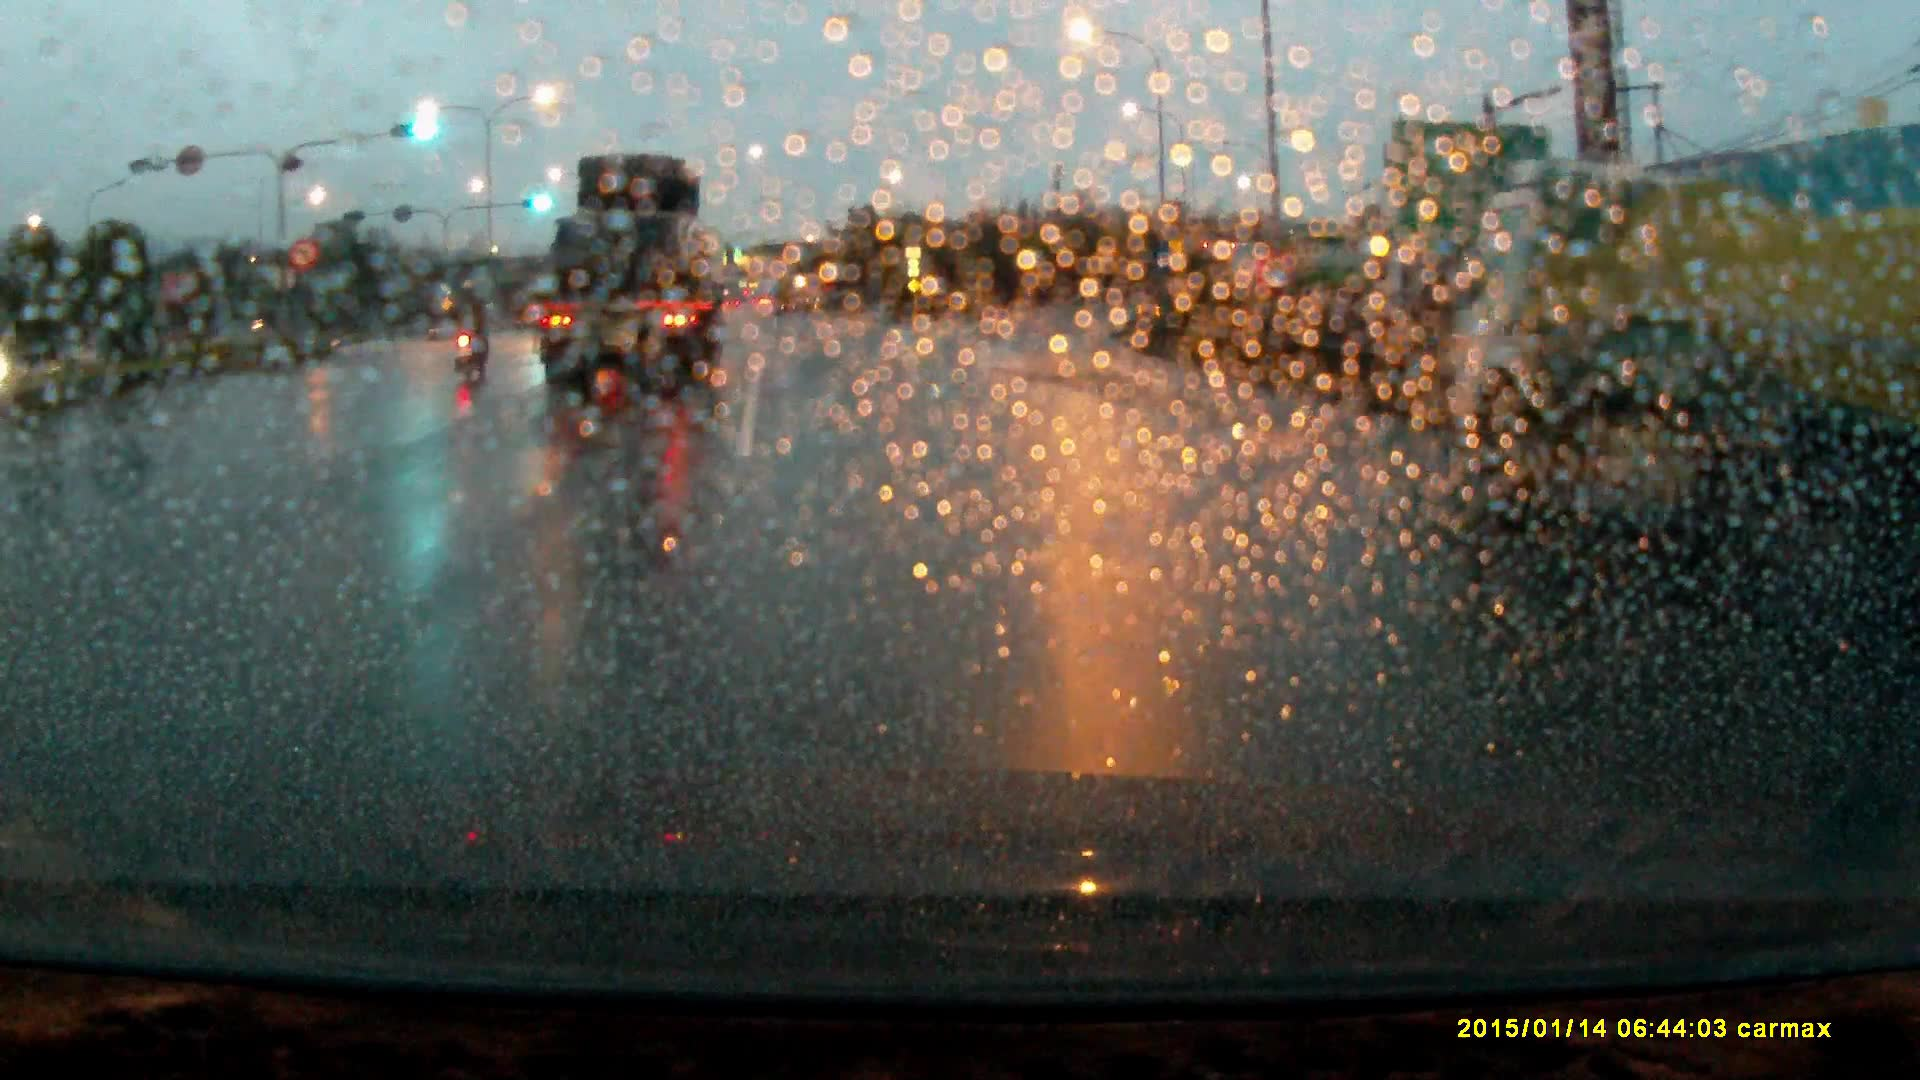rider: (442, 277, 492, 386)
vehicle: (1450, 131, 1920, 573), (532, 153, 727, 406)
